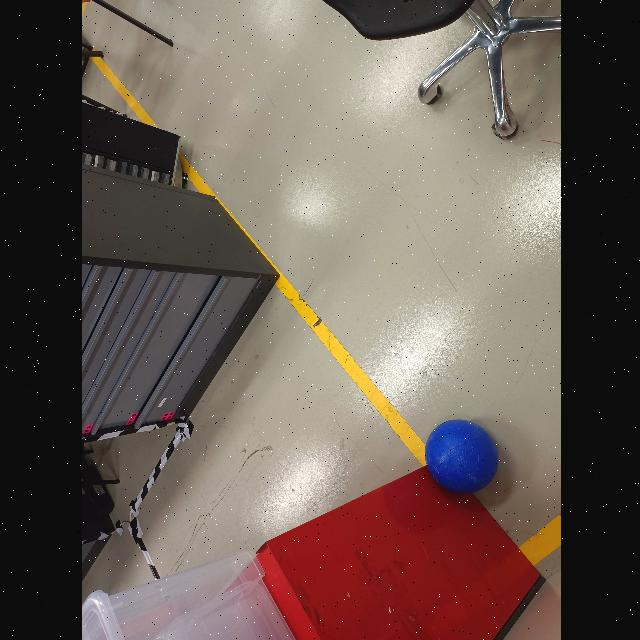B: (425, 420, 497, 496)
